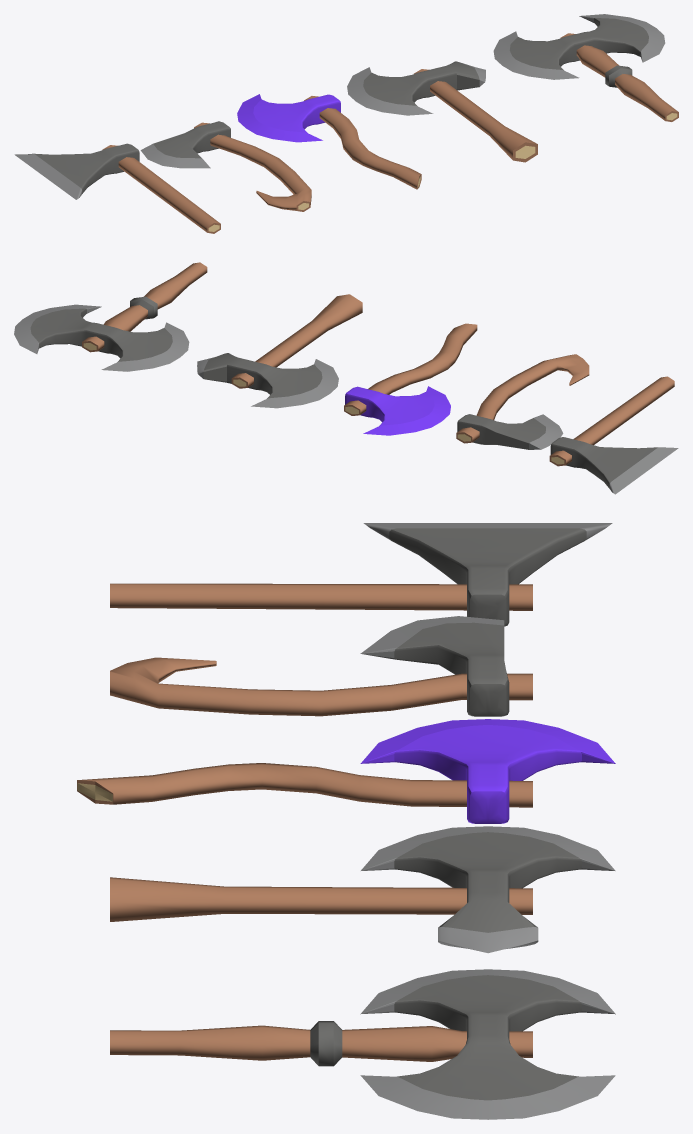
The model's file is Balta.fbx.
The picture shows the model from 3 angles, top to bottom: view 1: azimuth 30°, elevation 25°; view 2: azimuth 150°, elevation 25°; view 3: azimuth 270°, elevation 25°; orthographic projection. The views are drawn at different scales.
Parts seen in each view (by area): view 1: pCylinder27 (×4), group59_pCube35 (×2), group61_group59_pCube35, pCube35 (×2), pCylinder26; view 2: pCylinder27 (×4), group59_pCube35 (×2), group61_group59_pCube35, pCube35 (×2), pCylinder26; view 3: pCylinder27 (×4), group59_pCube35 (×2), group61_group59_pCube35, pCube35 (×2), pCylinder26.
Part boxes in pixels (x1,y1,x2,y2): pCylinder27 (×4): (102,33,678,233); group59_pCube35 (×2): (237,61,485,142); group61_group59_pCube35: (493,14,665,79); pCube35 (×2): (14,121,230,199); pCylinder26: (304,96,421,189); pCylinder27 (×4): (82,262,674,466); group59_pCube35 (×2): (197,353,450,435); group61_group59_pCube35: (14,304,189,371); pCube35 (×2): (457,414,678,494); pCylinder26: (344,323,477,415); pCylinder27 (×4): (110,583,532,1066); group59_pCube35 (×2): (360,719,615,953); group61_group59_pCube35: (360,969,615,1119); pCube35 (×2): (360,523,612,716); pCylinder26: (77,763,532,807).
Size of the model in its own units: 33.38 by 1.06 by 12.74.
